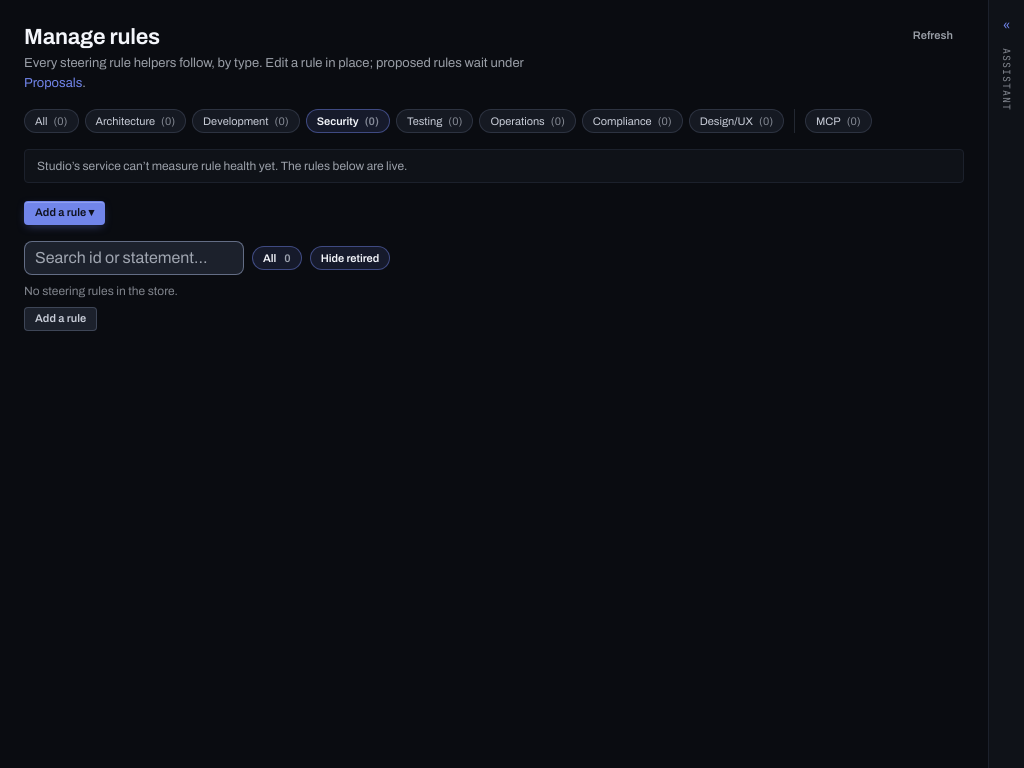
Test: SteeringPage — the ONE Add menu (two entries now) › Open assistant expands a collapsed dock
Expected: the element with test id "assist-dock-rail" is shown, [988,0,1023,767]
Step 1. Click the button with test id "steering-add-menu" → (65, 213), box [24,201,105,225]
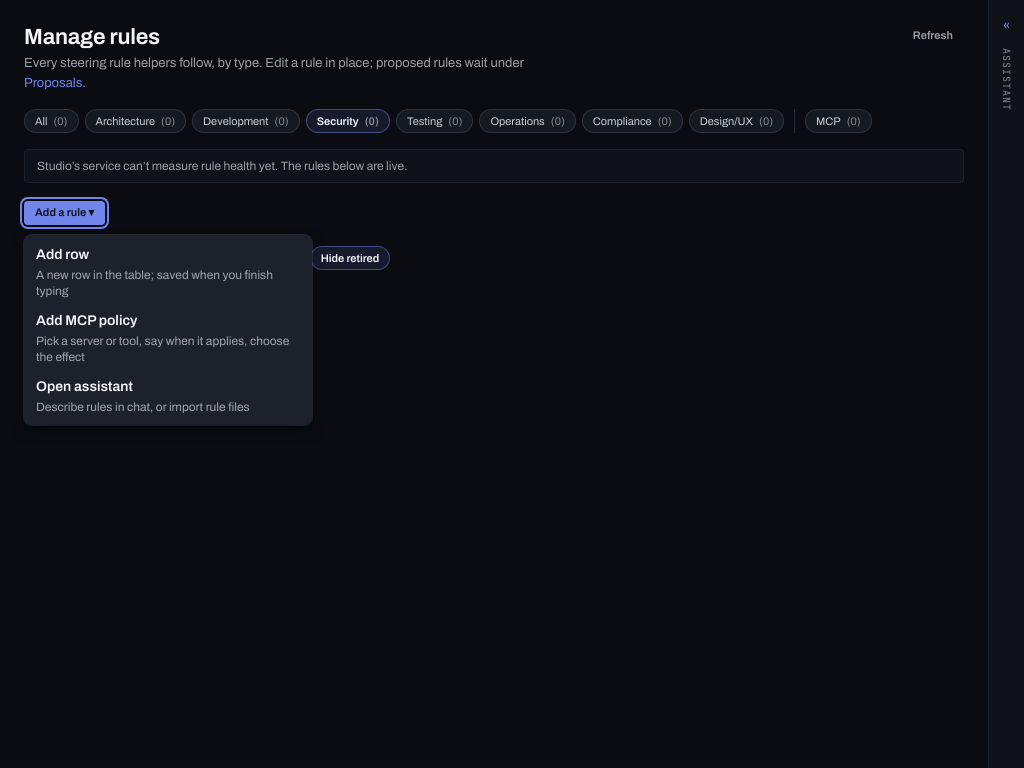
Step 2. Click the menu item with test id "steering-assist-open" → (84, 387), box [24,371,312,421]
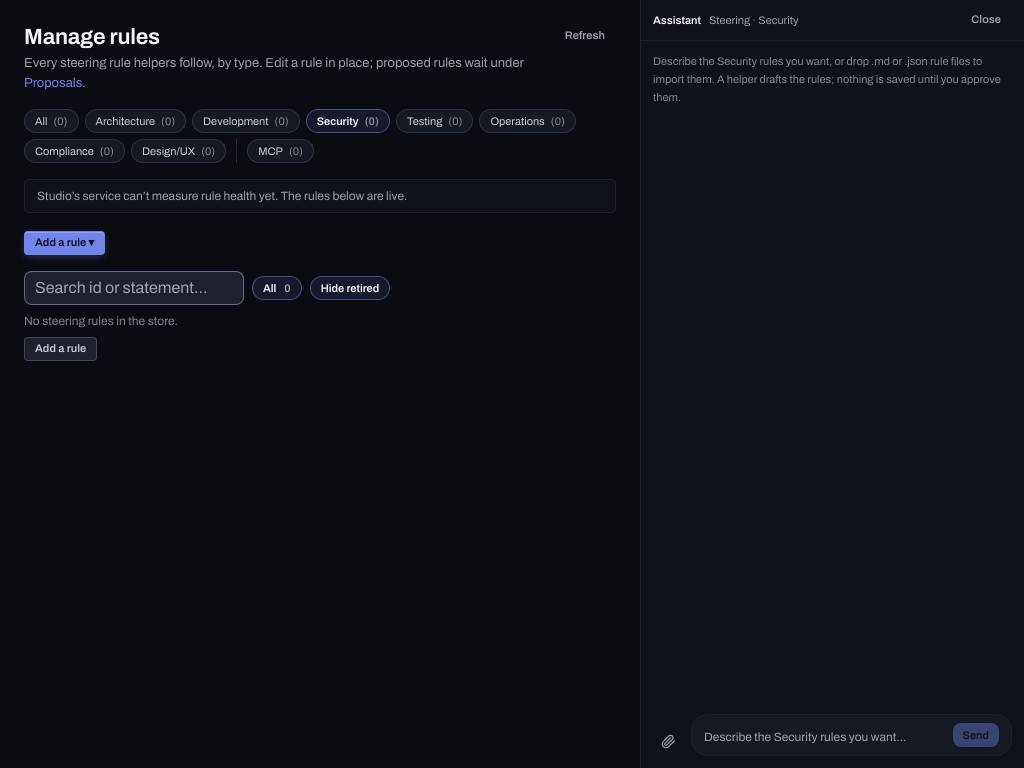
Result: the element with test id "assist-dock" is shown at [640,0,1023,767]
